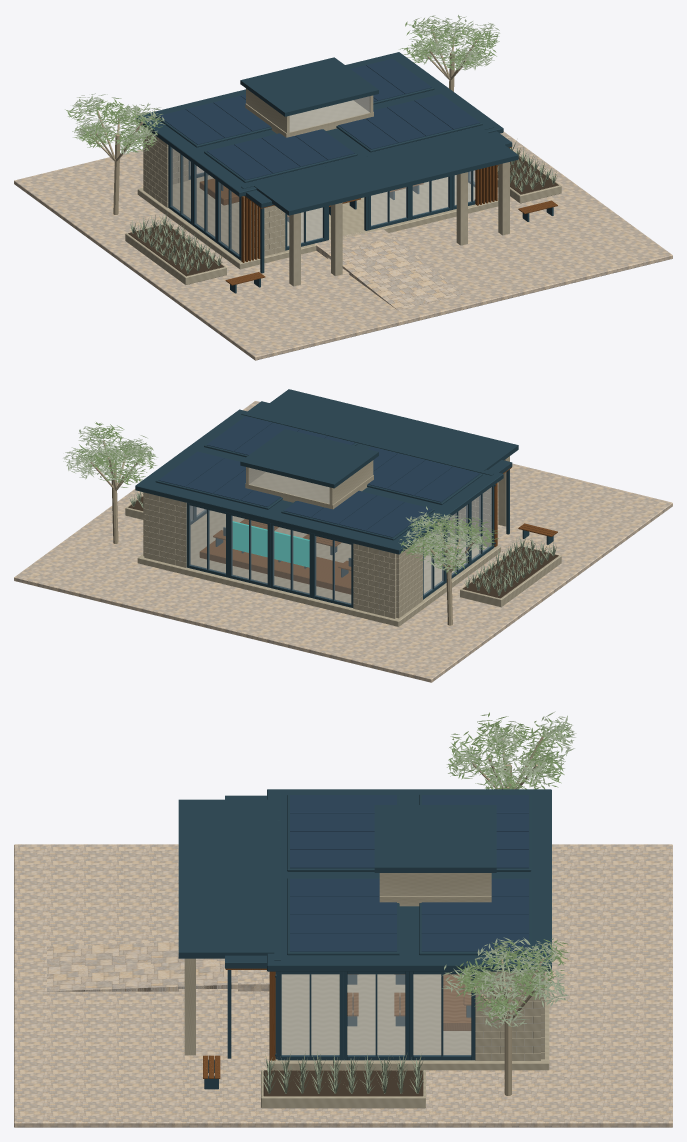
File: civic.glb
3 renders of one model, top to bottom at view 1: azimuth 30°, elevation 25°; view 2: azimuth 150°, elevation 25°; view 3: azimuth 270°, elevation 25°, orthographic. The views are drawn at different scales.
Parts seen in each view (by area): view 1: Whole item paving.003, Civic portico, Foundation.002, Roof slab.002, Civic lantern crown, Civic lantern plinth, ramp-3p2x2 part.007, ramp-3p2x2 part.006, Mulch.012, window-2m part.030, window-2m part.034, window-2m part.032 (+34 smaller); view 2: Whole item paving.003, Civic portico, Roof slab.002, Foundation.002, Civic lantern crown, wall-2m part.011, wall-2m part.012, window-2m part.026, window-2m part.028, window-2m part.024, window-2m part.023, Council stage (+26 smaller); view 3: Whole item paving.003, Civic portico, Foundation.002, Roof slab.002, Civic lantern crown, window-2m part.033, window-2m part.031, window-2m part.035, wall-2m part.014, Mulch.013, ramp-3p2x2 part.007, ramp-3p2x2 part.006 (+29 smaller).
Part boxes in pixels (x1,y1,x2,y2): Whole item paving.003: [14, 131, 672, 360]; Civic portico: [253, 129, 518, 215]; Foundation.002: [137, 175, 498, 269]; Roof slab.002: [135, 52, 503, 196]; Civic lantern crown: [240, 57, 378, 116]; Civic lantern plinth: [245, 100, 373, 137]; ramp-3p2x2 part.007: [349, 255, 440, 292]; ramp-3p2x2 part.006: [373, 274, 464, 310]; Mulch.012: [128, 224, 224, 276]; window-2m part.030: [216, 181, 241, 260]; window-2m part.034: [168, 145, 192, 225]; window-2m part.032: [192, 163, 216, 242]; Whole item paving.003: [14, 401, 672, 682]; Civic portico: [253, 389, 518, 471]; Roof slab.002: [135, 409, 503, 554]; Foundation.002: [137, 510, 500, 626]; Civic lantern crown: [240, 429, 378, 488]; wall-2m part.011: [353, 543, 396, 618]; wall-2m part.012: [144, 492, 186, 567]; window-2m part.026: [228, 513, 270, 587]; window-2m part.028: [186, 503, 228, 577]; window-2m part.024: [270, 523, 311, 597]; window-2m part.023: [312, 533, 353, 607]; Council stage: [199, 540, 351, 594]; Whole item paving.003: [14, 844, 672, 1127]; Civic portico: [178, 799, 277, 958]; Foundation.002: [269, 972, 549, 1070]; Roof slab.002: [267, 789, 551, 971]; Civic lantern crown: [374, 805, 496, 872]; window-2m part.033: [343, 971, 409, 1060]; window-2m part.031: [277, 971, 343, 1060]; window-2m part.035: [409, 971, 475, 1060]; wall-2m part.014: [475, 971, 540, 1060]; Mulch.013: [263, 1070, 423, 1096]; ramp-3p2x2 part.007: [113, 942, 178, 991]; ramp-3p2x2 part.006: [47, 944, 112, 991].
Bounding box in the file's own units: 20.08 × 5.15 × 20.
Materials: 14 (3 with a texture image).
